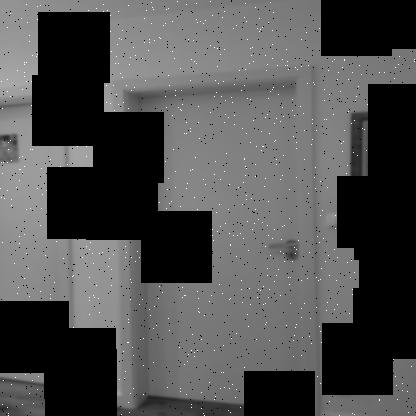Porte: (111, 63, 322, 416)
